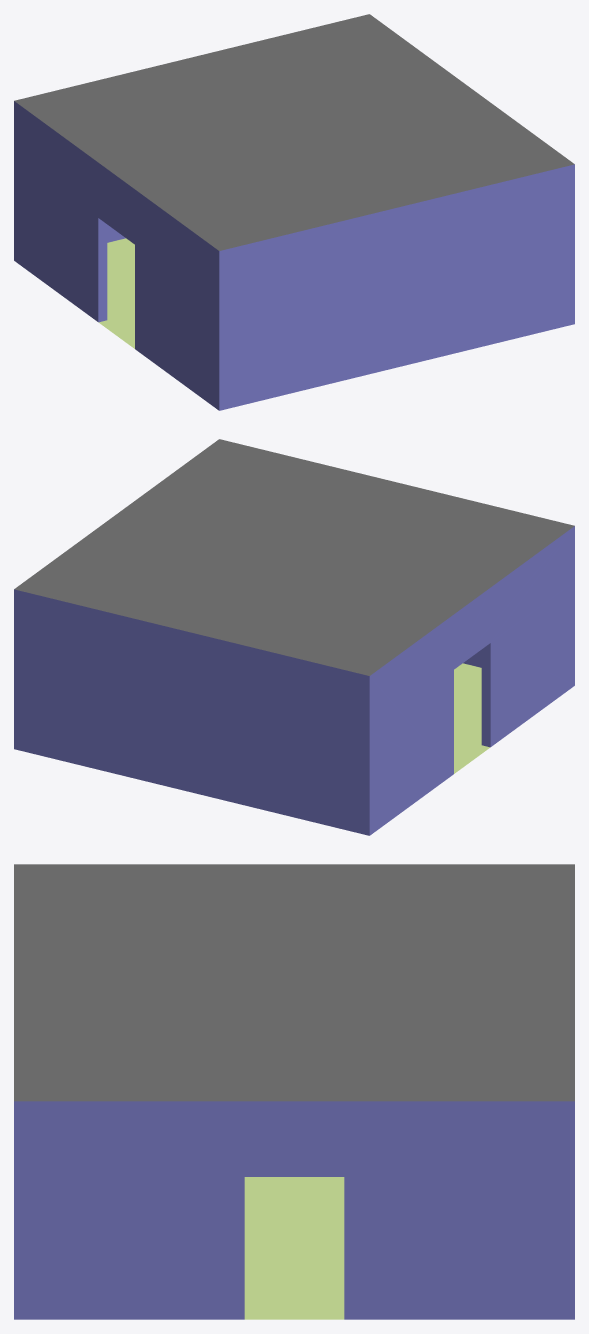
The model's file is RoomStraigth.fbx.
3 views of the same model, one above another, from view 1: azimuth 30°, elevation 25°; view 2: azimuth 150°, elevation 25°; view 3: azimuth 270°, elevation 25° (orthographic). The views are drawn at different scales.
Visible parts, largest first — view 1: RoomStraigth; view 2: RoomStraigth; view 3: RoomStraigth.
Boxes of the visible parts, x1,y1,x2,y2 form: RoomStraigth: (14,14,574,410); RoomStraigth: (14,439,574,835); RoomStraigth: (14,864,574,1319).
Size of the model in its own units: 267 by 114 by 267.
